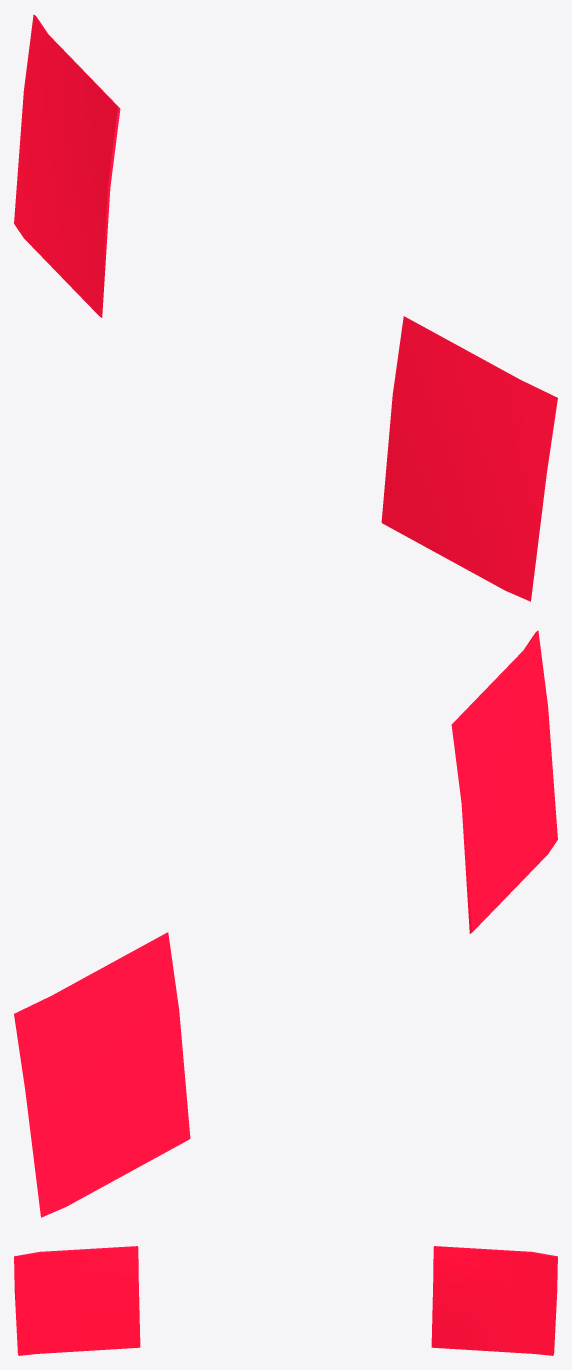
Rendered from suv-brake.dae.
3 renders of one model, top to bottom at view 1: azimuth 30°, elevation 25°; view 2: azimuth 150°, elevation 25°; view 3: azimuth 270°, elevation 25°, orthographic. The views are drawn at different scales.
Visible parts, largest first — view 1: SUVBrakes; view 2: SUVBrakes; view 3: SUVBrakes.
Boxes of the visible parts, x1,y1,x2,y2 form: SUVBrakes: (14, 14, 557, 601); SUVBrakes: (14, 630, 557, 1217); SUVBrakes: (14, 1246, 557, 1355).
Bounding box in the file's own units: 0.0379 × 0.6091 × 0.1317.
